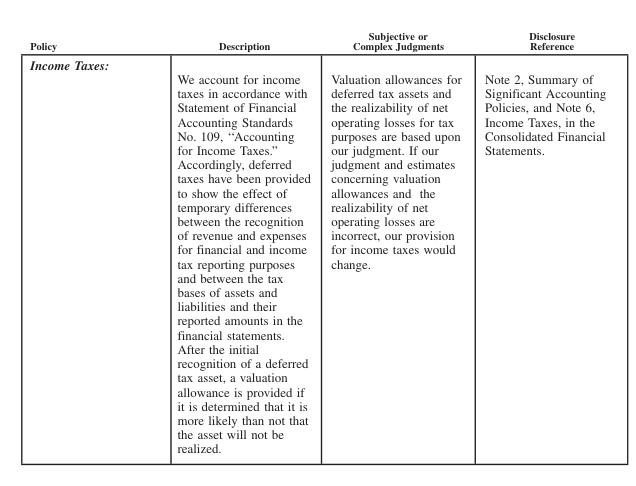table: (29, 29, 605, 455)
table column: (116, 29, 320, 455), (320, 29, 472, 455), (472, 29, 605, 455), (29, 29, 116, 455)
table column header: (29, 29, 605, 54)
table projected row header: (29, 54, 605, 71)
table row: (29, 71, 605, 455), (29, 29, 605, 54), (29, 54, 605, 71)
